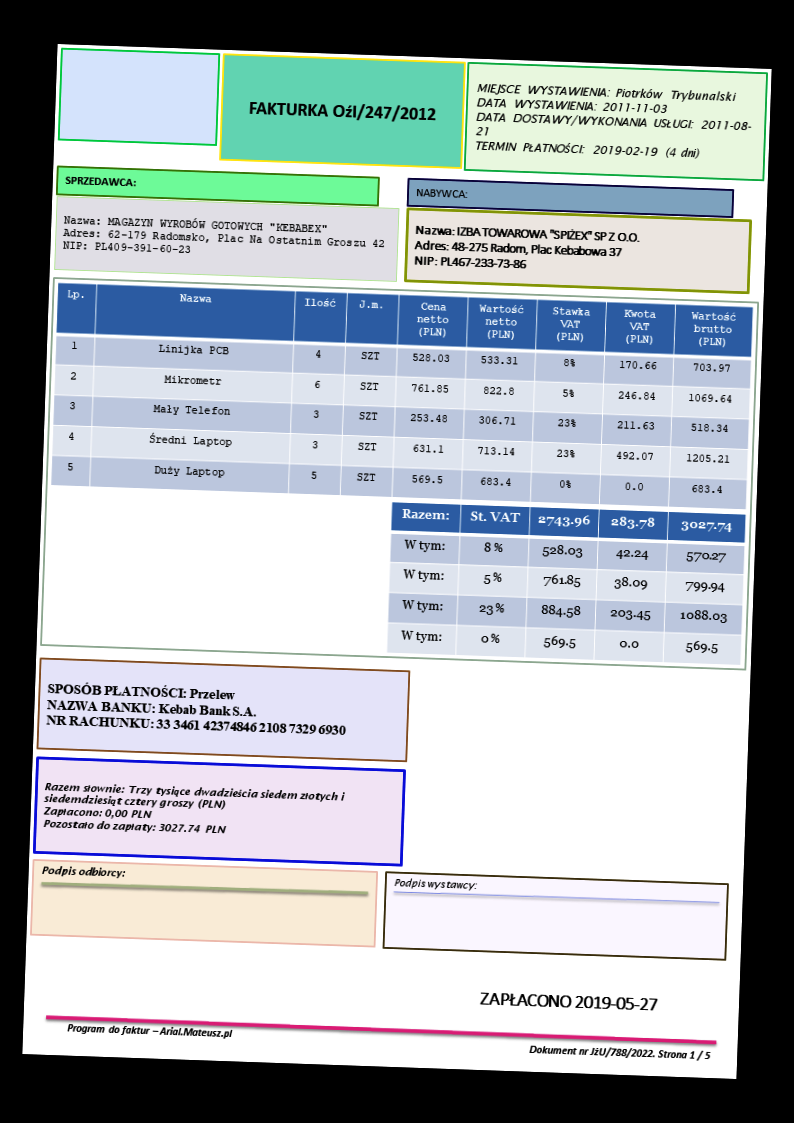Table: (49, 280, 754, 510), (386, 501, 746, 666)
TextBox: (471, 79, 754, 163), (41, 779, 348, 841), (44, 678, 348, 739), (60, 213, 386, 263), (411, 223, 640, 275), (246, 98, 438, 125), (477, 987, 661, 1013), (527, 1042, 712, 1063), (63, 1020, 236, 1041), (38, 863, 126, 880), (62, 173, 138, 191), (393, 876, 478, 892), (412, 184, 469, 202)
